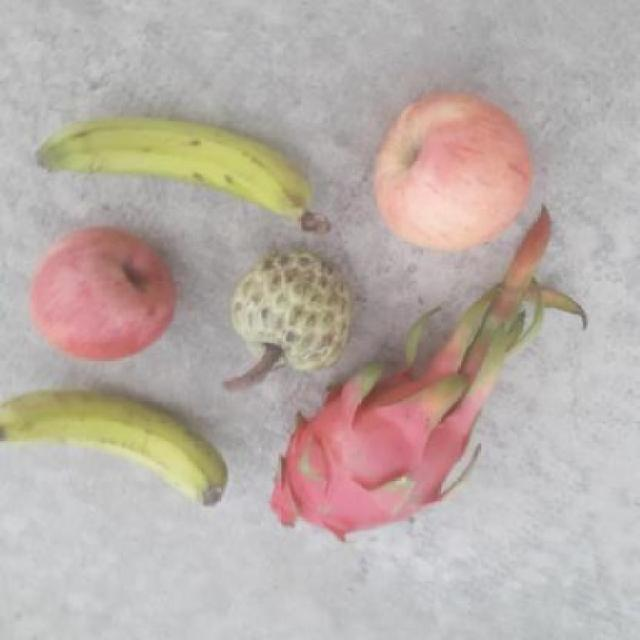apple: (368, 95, 538, 258), (24, 222, 184, 366)
banana: (32, 109, 336, 242), (1, 383, 234, 520)
dragon fruit: (265, 344, 486, 544)
sugar apple: (220, 255, 358, 376)
